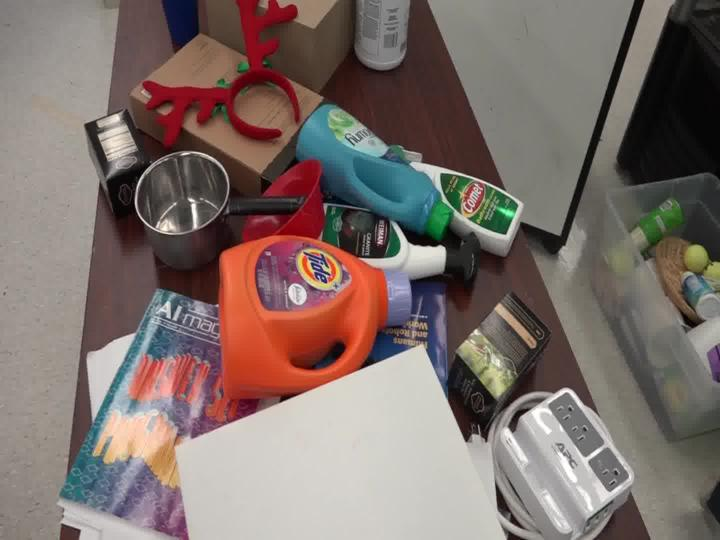tide: (192, 207, 420, 397)
